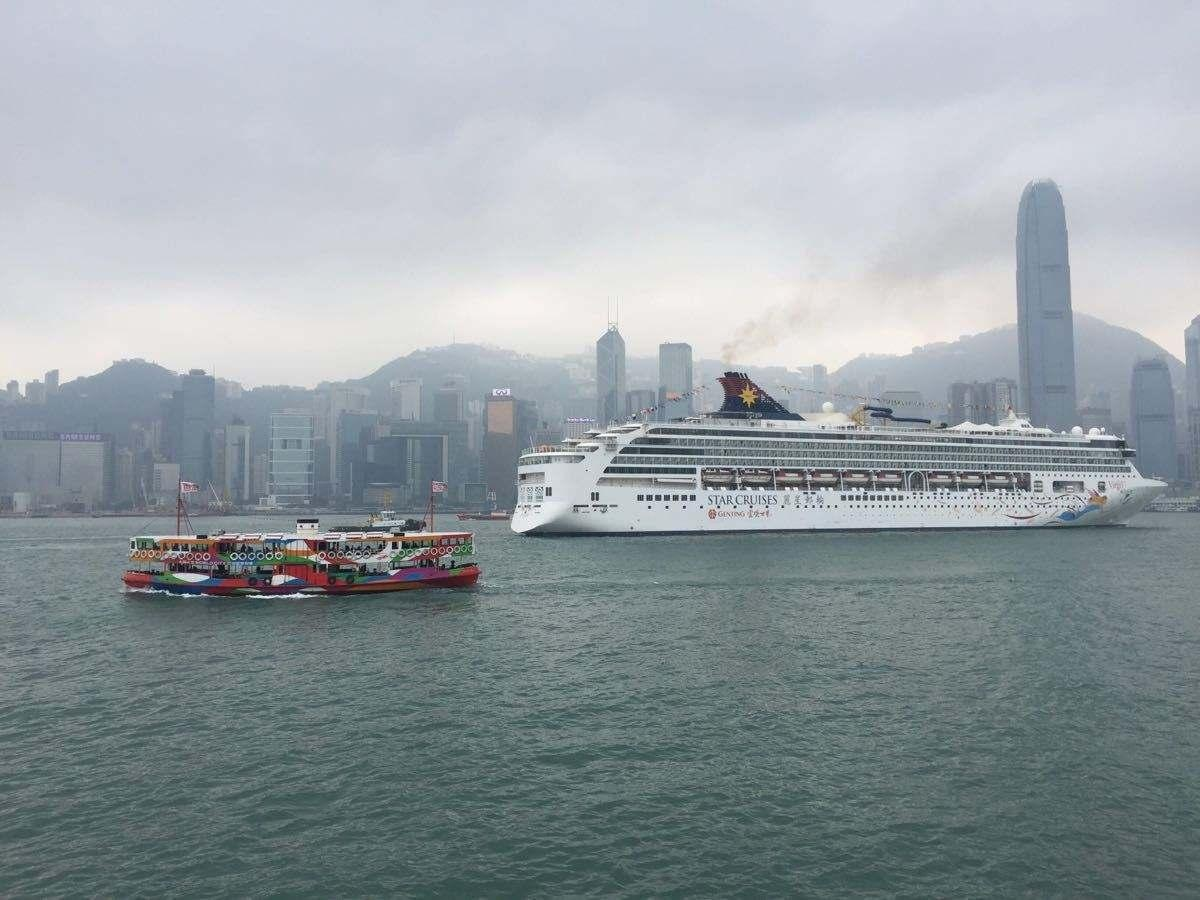otherboat: (116, 519, 477, 597)
youlun: (501, 366, 1184, 540)
